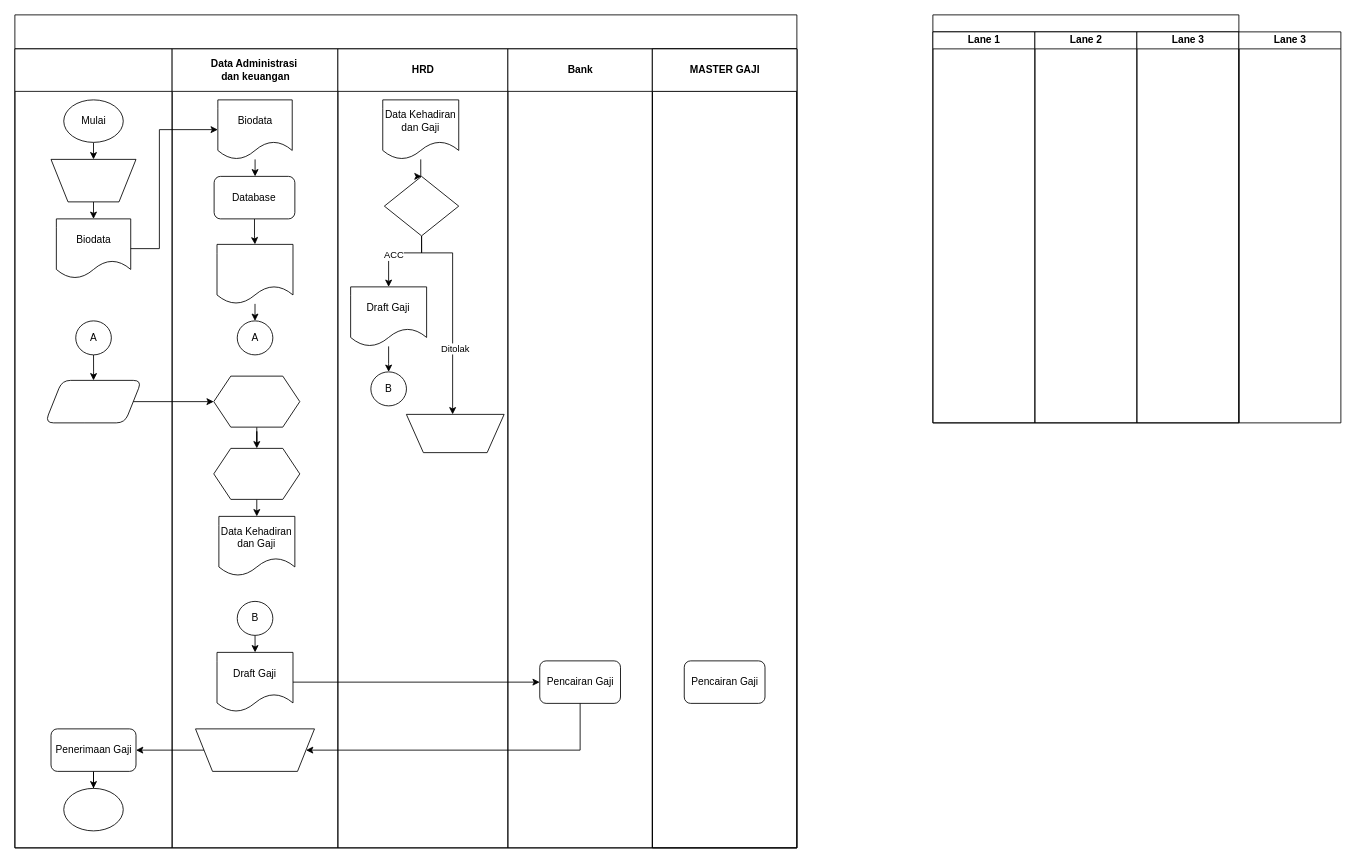
Image size: 1356x863. Some labels were removed from this diagram. The box of each missing label's shape, as (x1, y1, x2, y2) in pixels:
Data Administrasi: (216, 244, 293, 304)
Data Karyawan: (14, 48, 172, 848)
Input Absensi harian: (44, 380, 142, 423)
Input data pribadi: (50, 159, 136, 202)
Persetujuan: (384, 176, 459, 236)
Pool: (932, 14, 1239, 423)
Rekapitulasi Kehadiran: (213, 375, 300, 427)
Rincian Gaji: (213, 448, 300, 499)
Selesai: (63, 788, 123, 831)
Sistem Penggajian Karyawan Perusahaan: (14, 14, 797, 848)
Tinjauan ulang: (406, 414, 504, 453)
Verifikasi Penerima: (195, 728, 314, 771)
